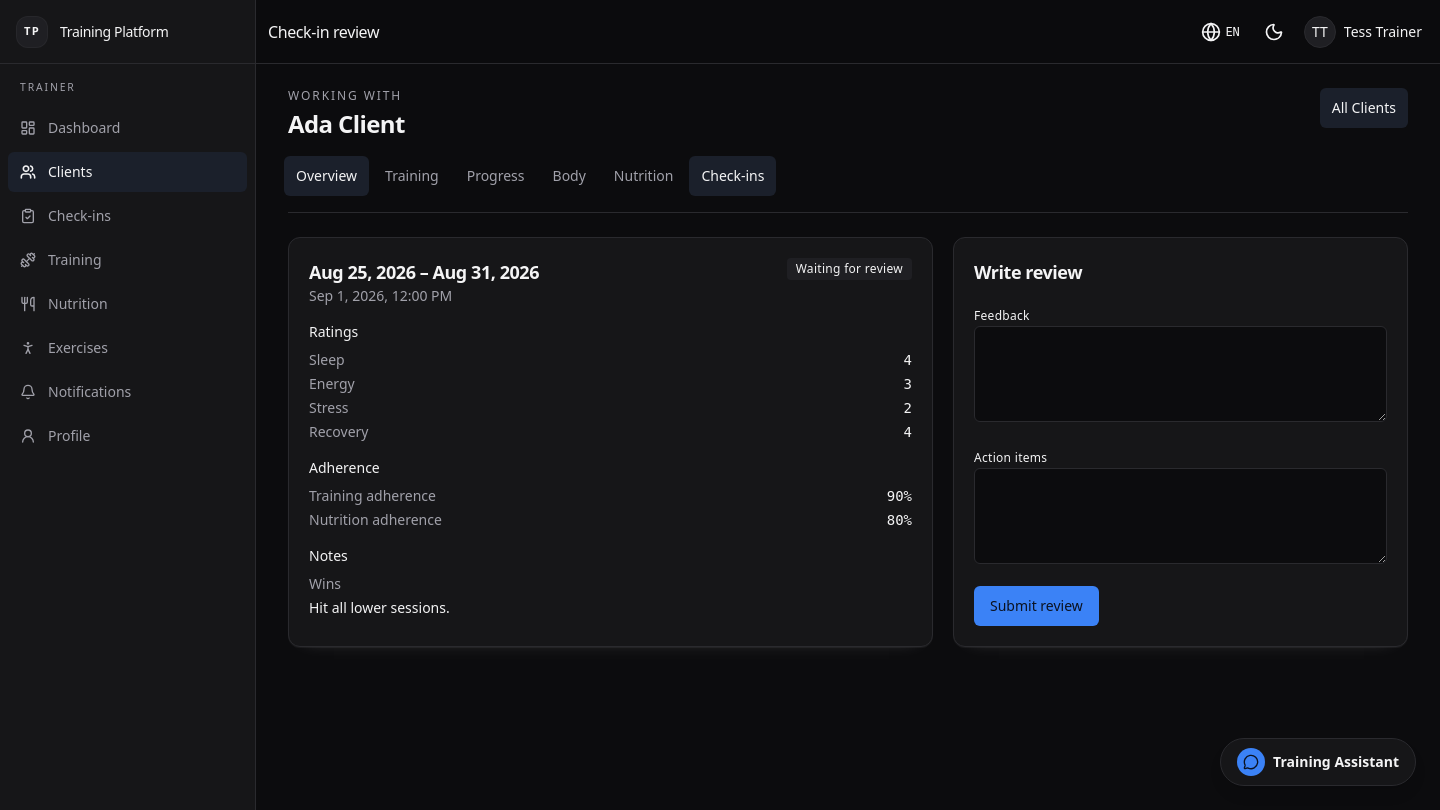
Test: Trainer workspace › surfaces a 409 on review conflict
Type "Notes" into the text box labelled "Feedback" at (1180, 374), box [974,326,1387,422]
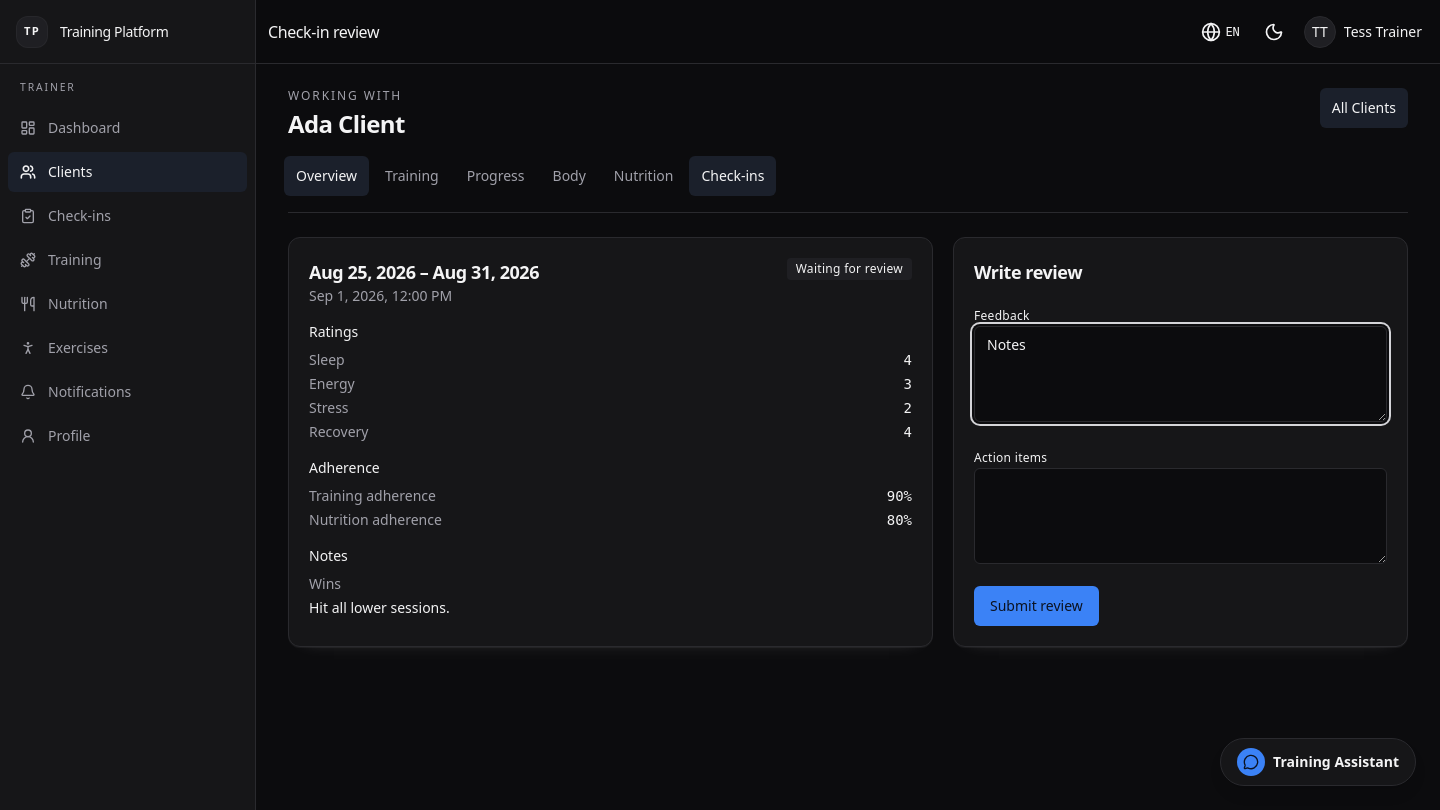
Click the button "Submit review" at (1036, 606), box [974,586,1099,626]
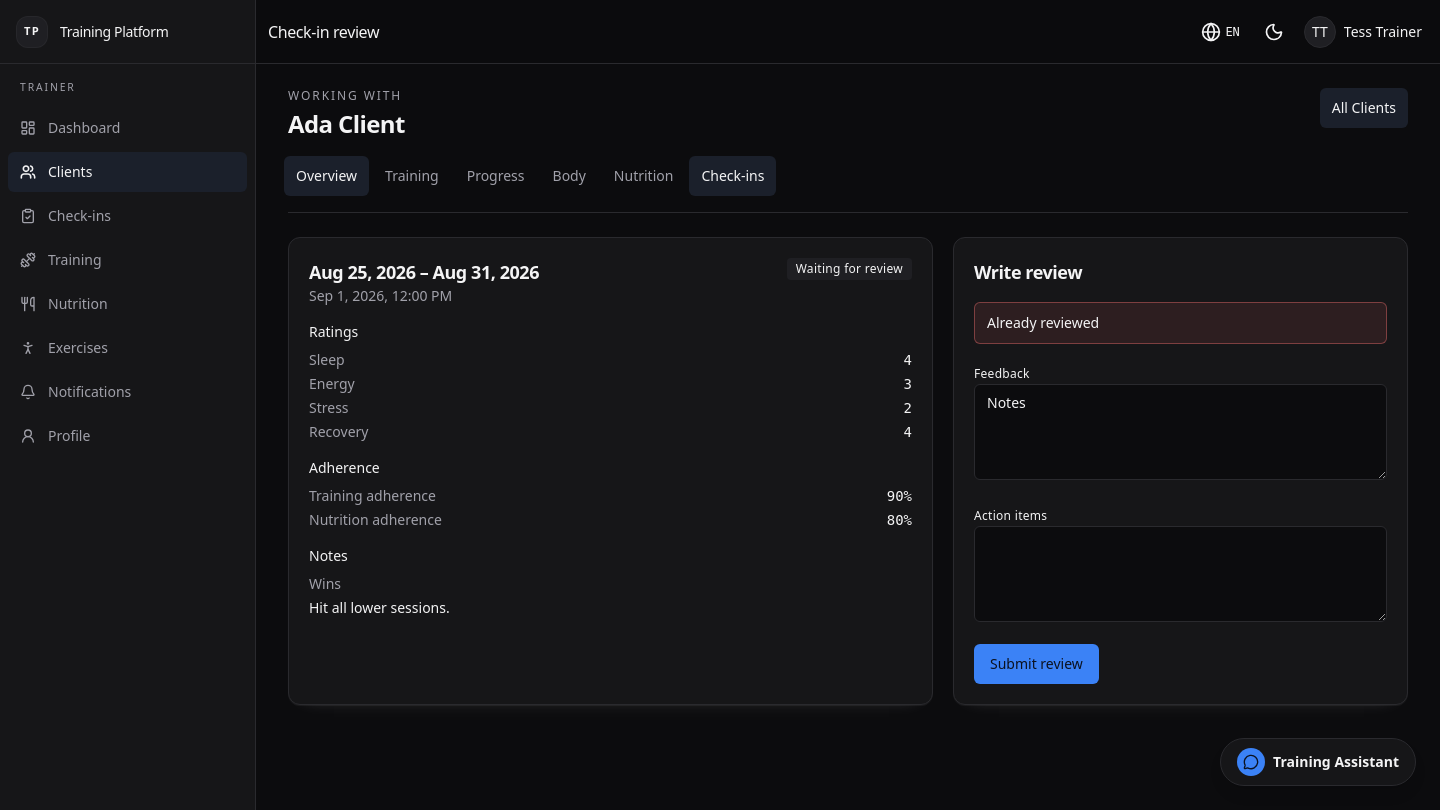
Expected: the message "Already reviewed" is shown, [974,302,1387,344]
